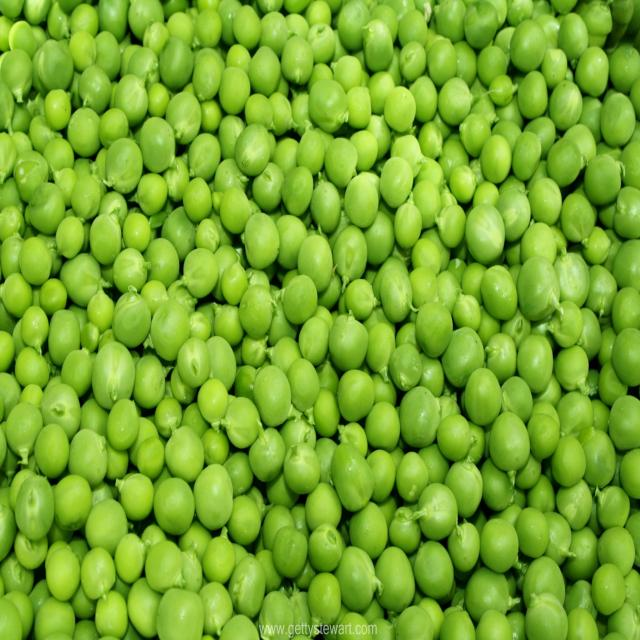Peas: (0, 4, 638, 636)
